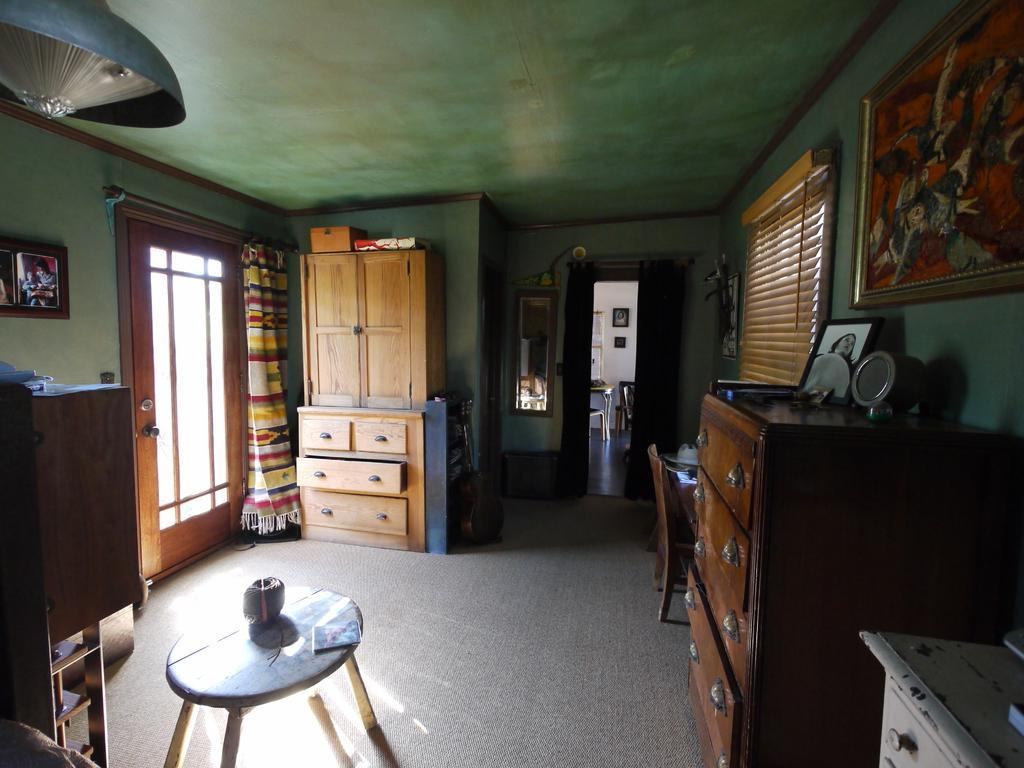door: (134, 250, 232, 554)
handle: (145, 424, 159, 445)
